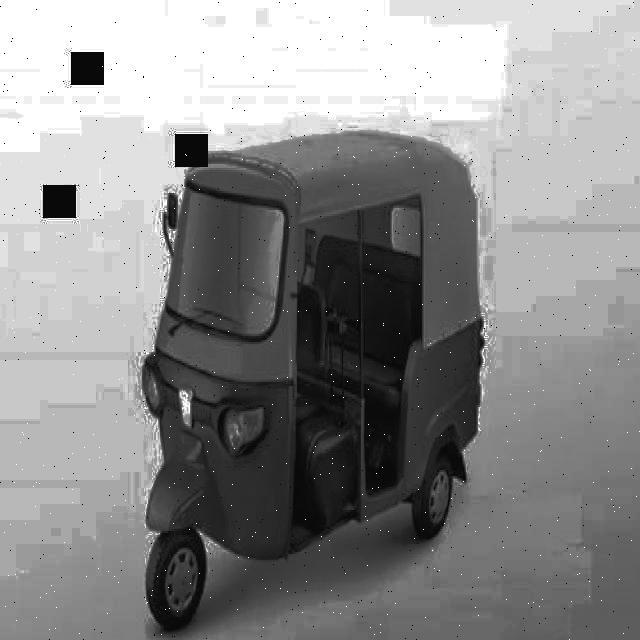Auto-Rickshaw: (142, 141, 488, 634)
